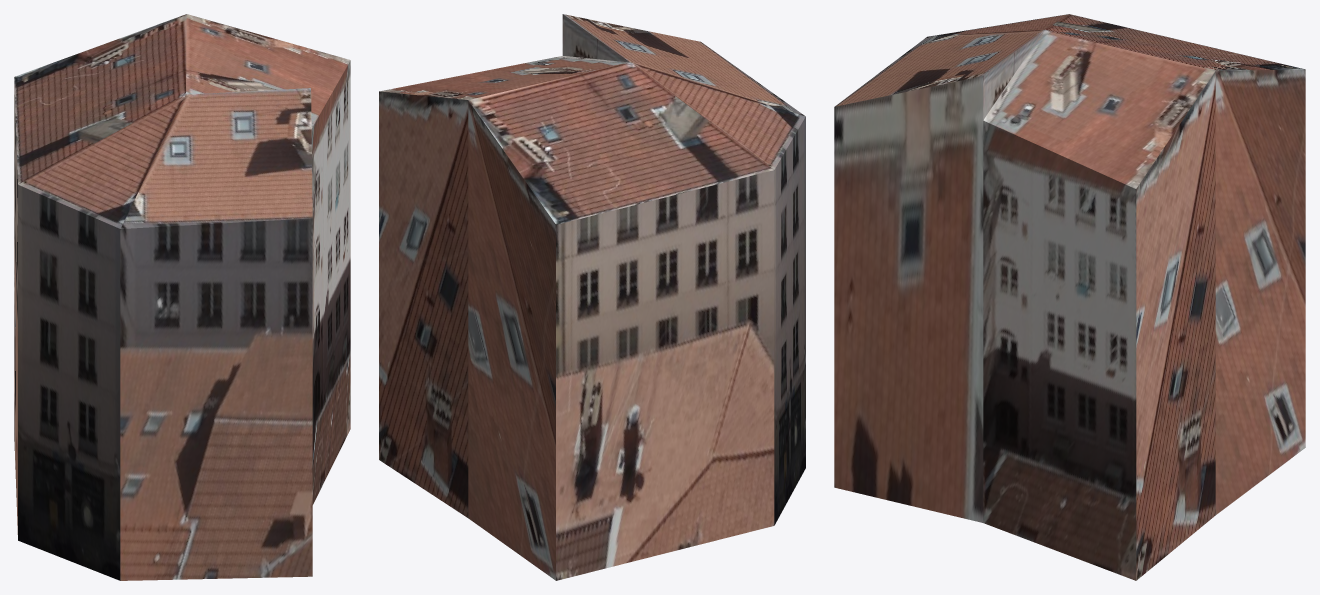
The picture shows the model from 3 angles, left to right: view 1: azimuth 30°, elevation 25°; view 2: azimuth 150°, elevation 25°; view 3: azimuth 270°, elevation 25°; orthographic projection. The views are drawn at different scales.
Parts seen in each view (by area): view 1: Z_UP; view 2: Z_UP; view 3: Z_UP.
Boxes of the visible parts, left/top/right/bottom form: Z_UP: left=14, top=14, right=350, bottom=580; Z_UP: left=379, top=14, right=805, bottom=580; Z_UP: left=834, top=14, right=1305, bottom=580.
Size of the model in its own units: 20.98 by 23.16 by 22.12.
2 materials, 1 textured.
